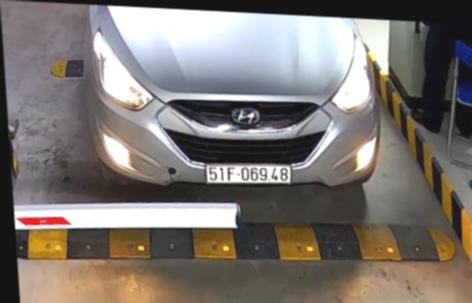License_Plate: (200, 159, 292, 184)
